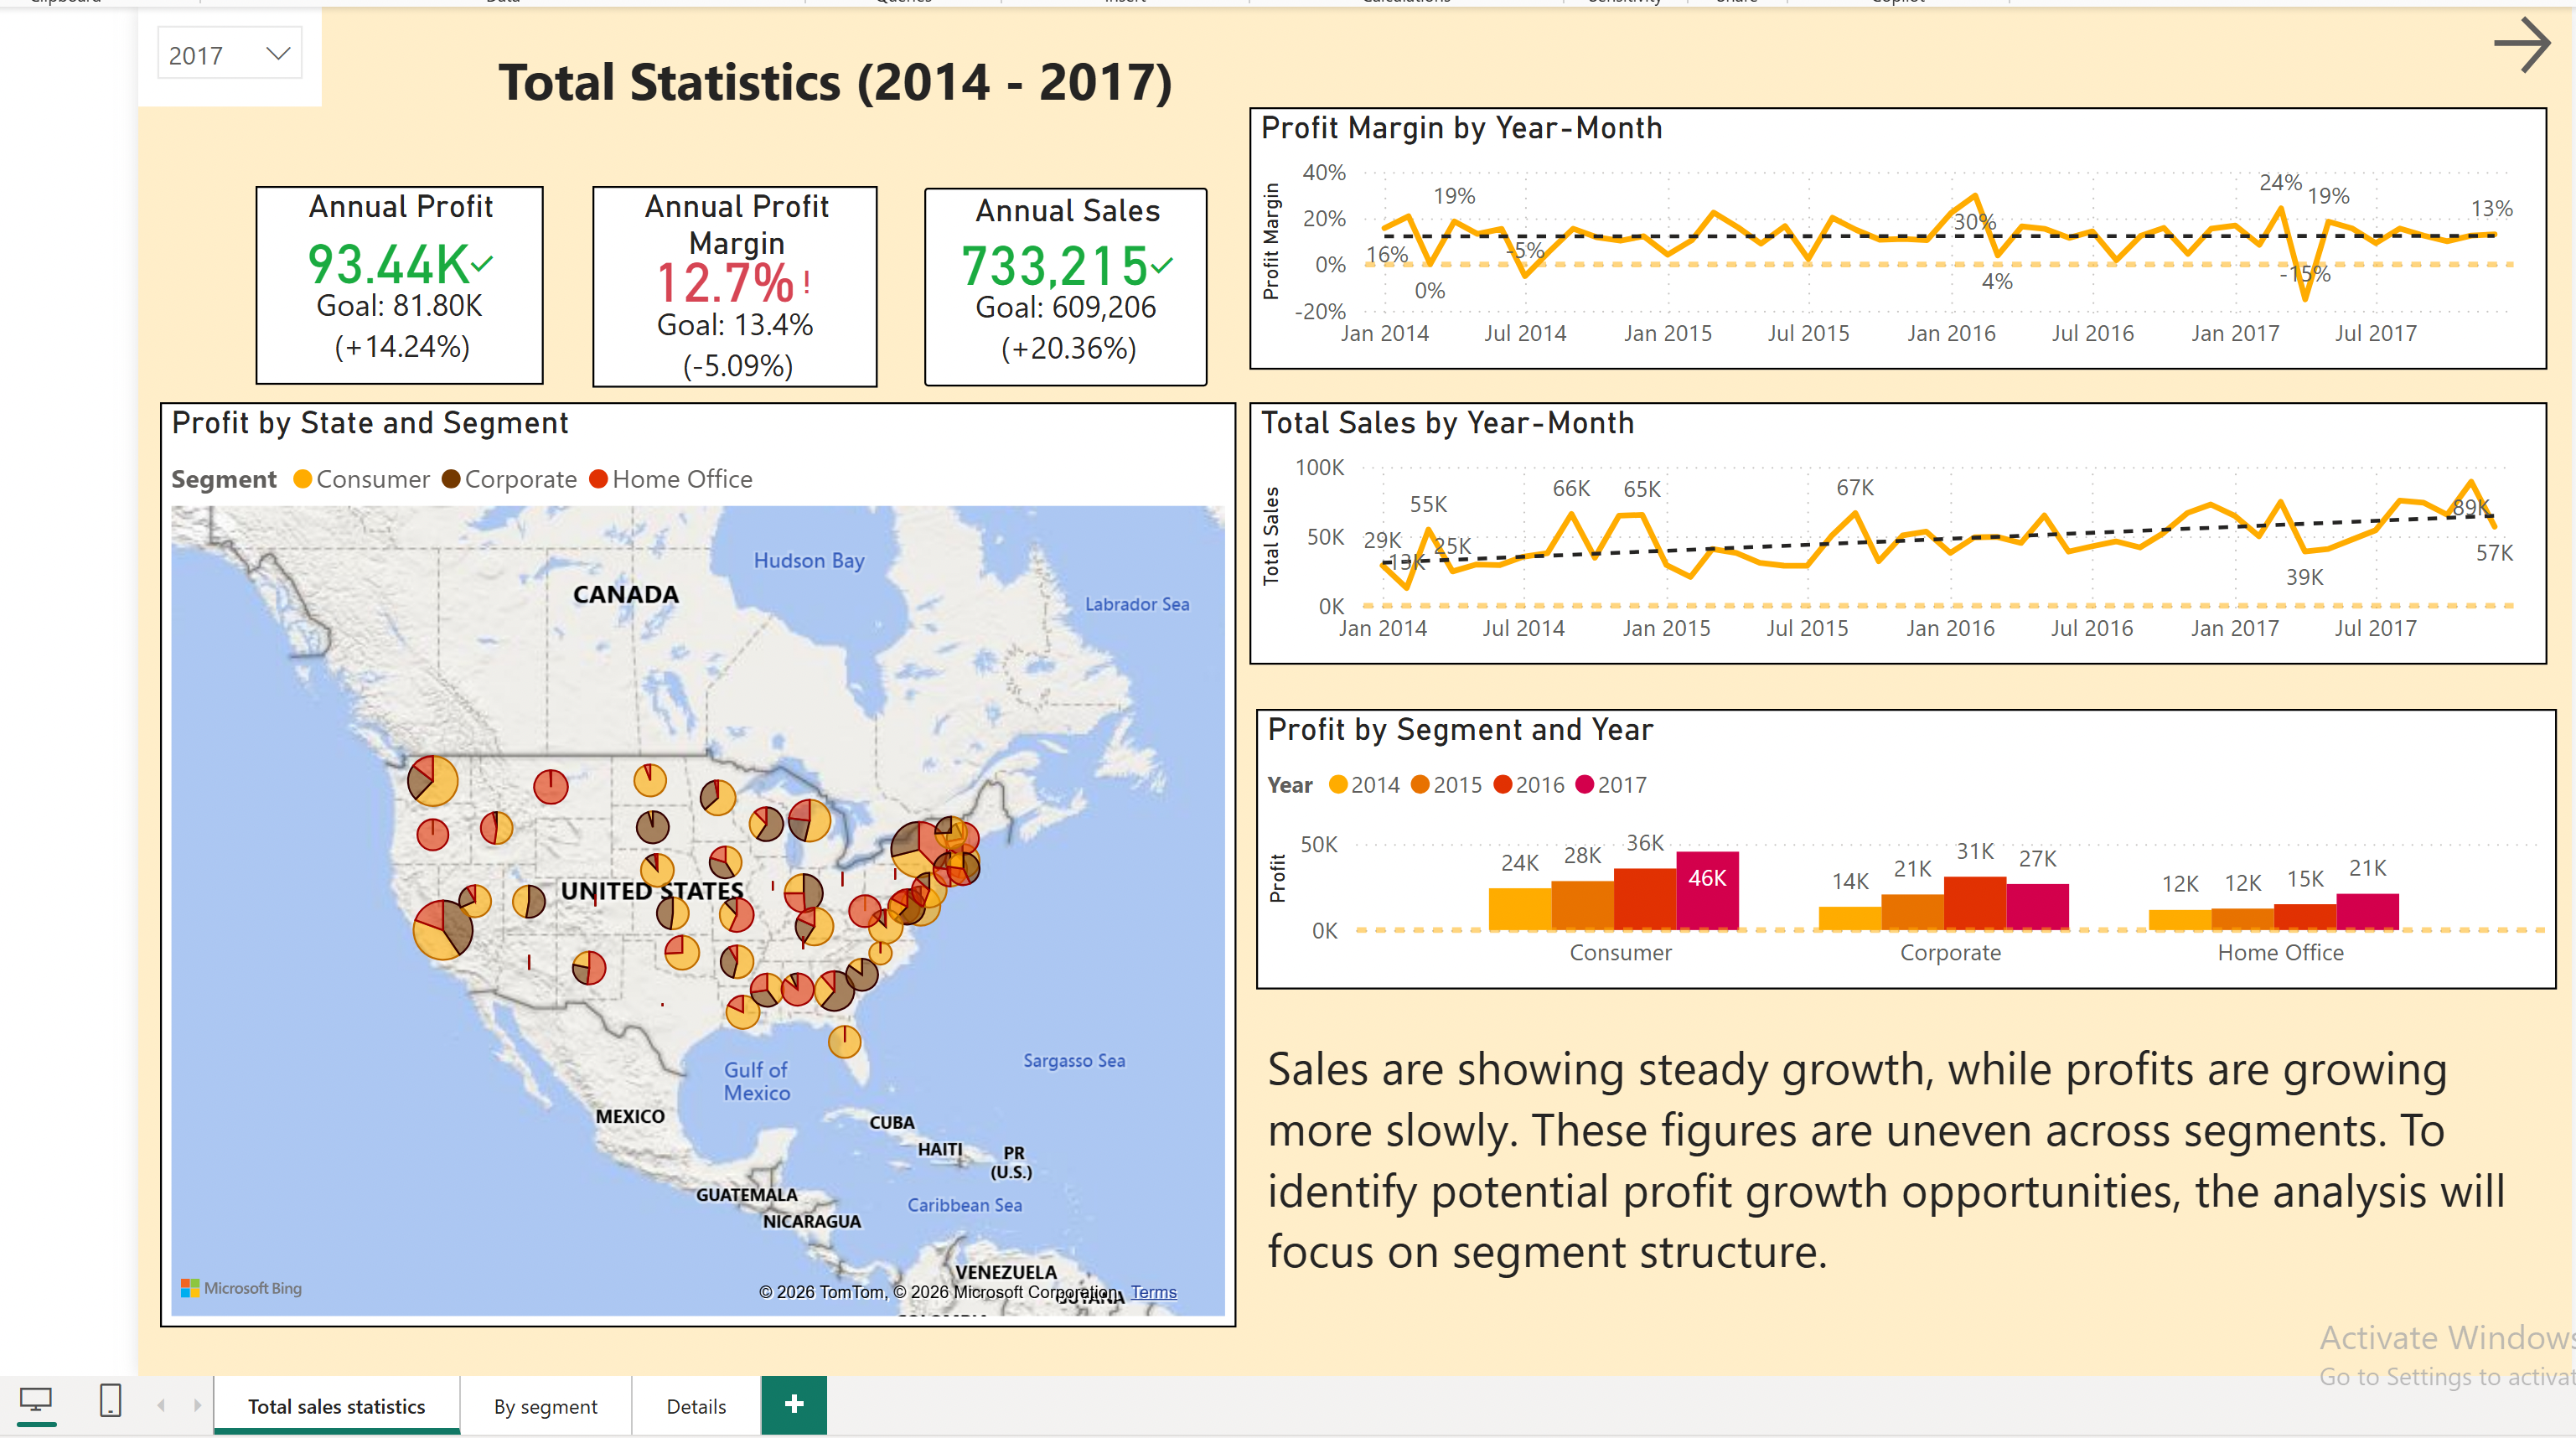

Layout of this report page (visuals, bound fields, positions):
{"tool":"powerbi","page":{"name":"Total sales statistics","canvas":[1280,720],"ordinal":0},"visuals":[{"type":"map","fields":{"Category":["Sales.State"],"Size":["_Measures.Profit"]},"box":[11.6,260.4,566.2,434.4],"z":0},{"type":"pageNavigator","box":[667.3,14.8,572.8,64.9],"z":1000},{"type":"lineChart","fields":{"Category":["DateTable.Year-Month"],"Y":["_Measures.Total Sales"]},"box":[588.3,94.9,683.2,131.8],"z":2000},{"type":"slicer","fields":{"Values":["DateTable.Year"]},"box":[0,0,96.4,52.6],"z":3000},{"type":"card","fields":{"Values":["_Measures.Total Sales"]},"box":[1242.8,1.1,37.2,37.2],"z":4000},{"type":"kpi","title":"Annual Sales","fields":{"Indicator":["_Measures.Total Sales"],"Goal":["_Measures.Sales_LY"],"TrendLine":["DateTable.Year"]},"box":[82.8,94.4,148.7,105],"z":6000},{"type":"slicer","fields":{"Values":["Metric Parameter.Metric Parameter"]},"box":[1239.6,0,40.4,14.9],"z":7000},{"type":"textbox","box":[184.1,14.9,507.5,69.2],"z":8000},{"type":"textbox","box":[588.3,535.6,691.7,159.2],"z":9000},{"type":"clusteredColumnChart","fields":{"Category":["Sales.Segment"],"Y":["_Measures.Profit"],"Series":["DateTable.Year"]},"box":[588.3,380.6,683.2,147.6],"z":10000},{"type":"lineChart","fields":{"Category":["DateTable.Year-Month"],"Y":["_Measures.Profit Margin"]},"box":[588.3,235.1,683.2,133.9],"z":11000},{"type":"kpi","title":"Annual Profit","fields":{"TrendLine":["DateTable.Year"],"Indicator":["_Measures.Profit"],"Goal":["_Measures.Profit LY"]},"box":[249.2,95.2,152.2,105],"z":12000},{"type":"kpi","title":"Annual Profit Margin","fields":{"TrendLine":["DateTable.Year"],"Indicator":["_Measures.Profit Margin"],"Goal":["_Measures.Margin LY"]},"box":[418.4,94.4,150.2,105.1],"z":13000}]}

Visuals, with their boxes on the page's 1280x720 design canvas (x1, y1, x2, y2). These are canvas units, not pixel positions in the 2576x1438 screenshot, which may show the page scaled, cropped or inside an application window:
map - Sales.State x _Measures.Profit: x1=12, y1=260, x2=578, y2=695
pageNavigator: x1=667, y1=15, x2=1240, y2=80
lineChart - DateTable.Year-Month x _Measures.Total Sales: x1=588, y1=95, x2=1272, y2=227
slicer - DateTable.Year: x1=0, y1=0, x2=96, y2=53
card - _Measures.Total Sales: x1=1243, y1=1, x2=1280, y2=38
"Annual Sales" kpi: x1=83, y1=94, x2=232, y2=199
slicer - Metric Parameter.Metric Parameter: x1=1240, y1=0, x2=1280, y2=15
textbox: x1=184, y1=15, x2=692, y2=84
textbox: x1=588, y1=536, x2=1280, y2=695
clusteredColumnChart - Sales.Segment x _Measures.Profit: x1=588, y1=381, x2=1272, y2=528
lineChart - DateTable.Year-Month x _Measures.Profit Margin: x1=588, y1=235, x2=1272, y2=369
"Annual Profit" kpi: x1=249, y1=95, x2=401, y2=200
"Annual Profit Margin" kpi: x1=418, y1=94, x2=569, y2=200
